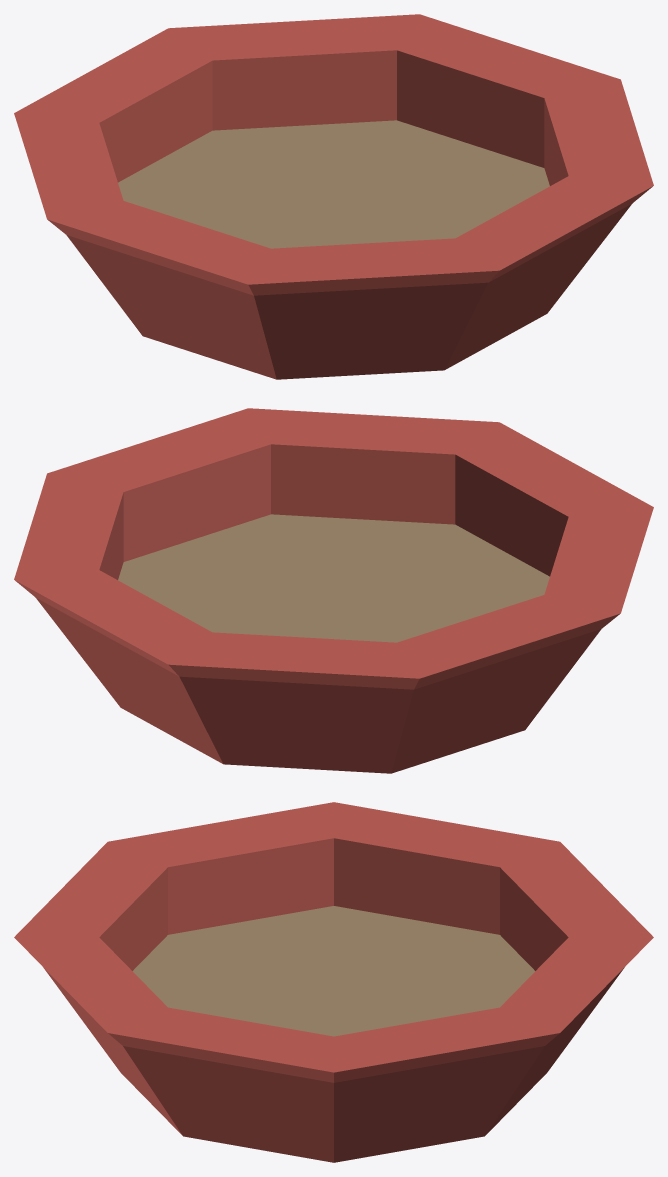
The model's file is dog_bowl.glb.
The picture shows the model from 3 angles, top to bottom: view 1: azimuth 30°, elevation 25°; view 2: azimuth 150°, elevation 25°; view 3: azimuth 270°, elevation 25°; orthographic projection. The views are drawn at different scales.
Visible parts, largest first — view 1: Dog_bowl; view 2: Dog_bowl; view 3: Dog_bowl.
Boxes of the visible parts, bbox=[...] form: Dog_bowl: bbox=[14, 14, 653, 379]; Dog_bowl: bbox=[14, 408, 653, 773]; Dog_bowl: bbox=[14, 802, 653, 1162].
Bounding box in the file's own units: 0.3 × 0.07 × 0.3.
